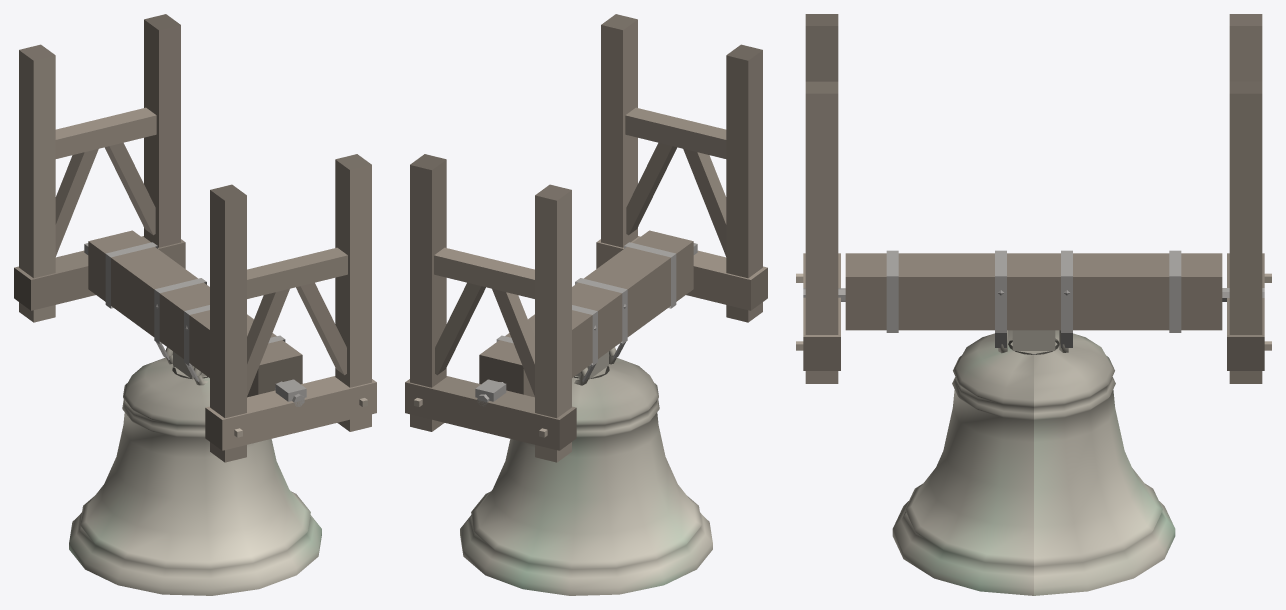
File: prop_bell.glb
The picture shows the model from 3 angles, left to right: view 1: azimuth 30°, elevation 25°; view 2: azimuth 150°, elevation 25°; view 3: azimuth 270°, elevation 25°; orthographic projection. The views are drawn at different scales.
Visible parts, largest first — view 1: Bell, BellSoft; view 2: Bell, BellSoft; view 3: Bell, BellSoft.
Part boxes in pixels (left/top/right/bottom): Bell: left=14, top=14, right=376, bottom=462; BellSoft: left=69, top=347, right=321, bottom=595; Bell: left=405, top=14, right=767, bottom=462; BellSoft: left=460, top=347, right=712, bottom=595; Bell: left=796, top=14, right=1271, bottom=383; BellSoft: left=892, top=330, right=1175, bottom=595.
Bounding box in the file's own units: 1.2 × 2.4 × 2.02.
